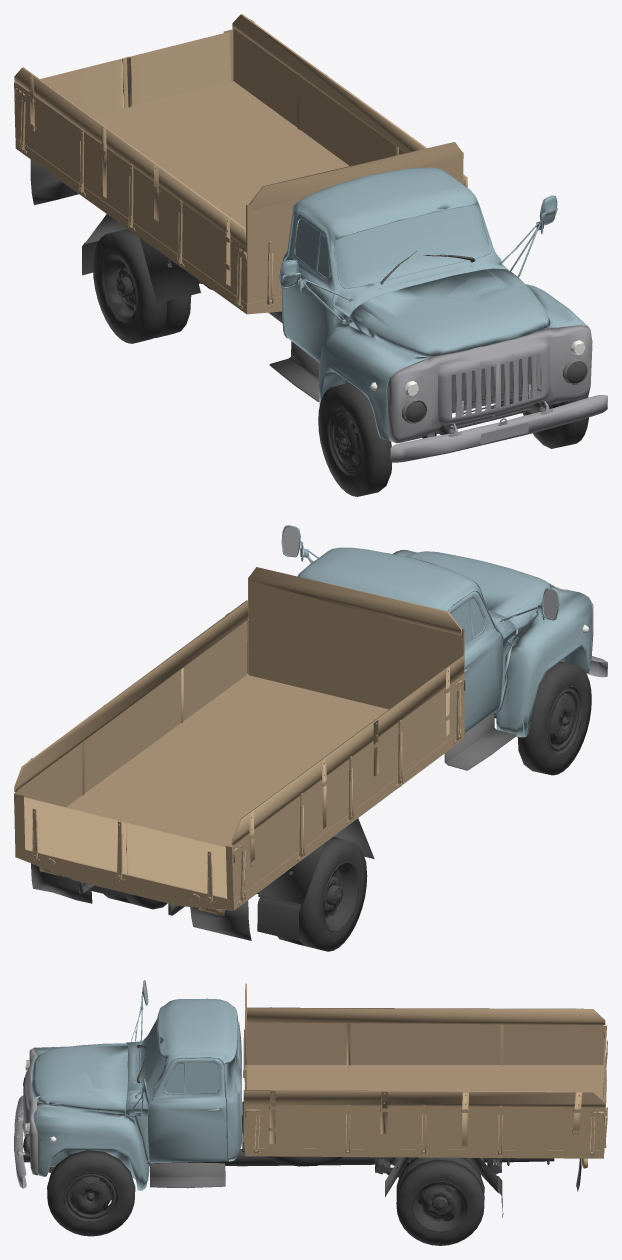
File: Camion.fbx
3 views of the same model, one above another, from view 1: azimuth 30°, elevation 25°; view 2: azimuth 150°, elevation 25°; view 3: azimuth 270°, elevation 25° (orthographic). The views are drawn at different scales.
Visible parts, largest first — view 1: Camion; view 2: Camion; view 3: Camion.
Part boxes in pixels (x1=…): Camion: x1=14, y1=14, x2=607, y2=496; Camion: x1=14, y1=525, x2=607, y2=951; Camion: x1=14, y1=980, x2=607, y2=1245.
Bounding box in the file's own units: 2.76 × 2.29 × 6.6.
